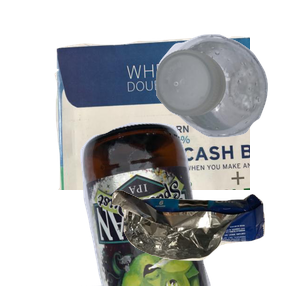glass: (78, 120, 281, 300)
paper: (52, 34, 292, 214)
plastic: (153, 31, 300, 161)
trash: (109, 187, 300, 300)
